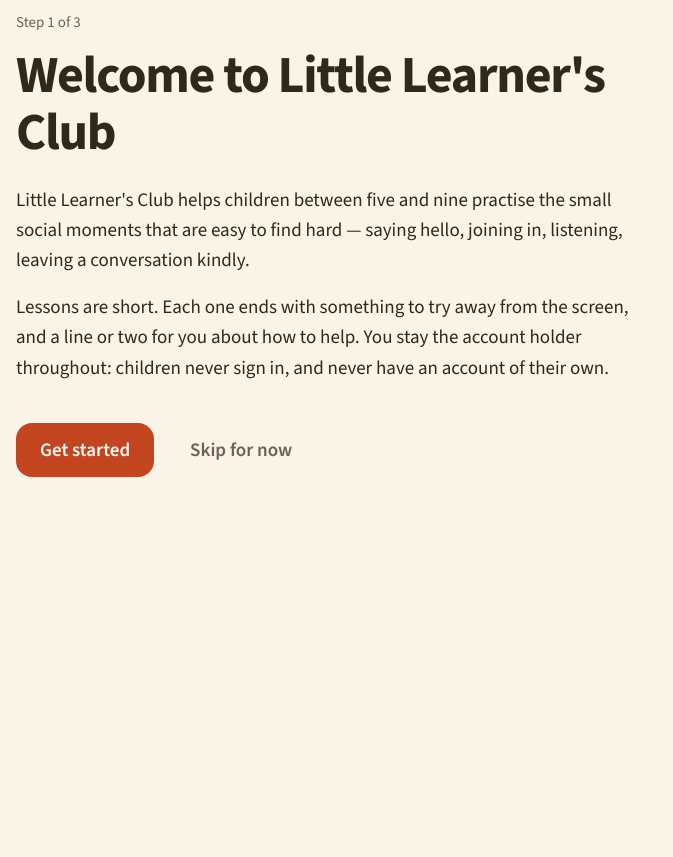
Test: the first profile › asks for a nickname rather than saving an empty one
The width and height of the screenshot is (673, 857).
Click the button "Get started" at [85, 450], box [16,423,154,477]
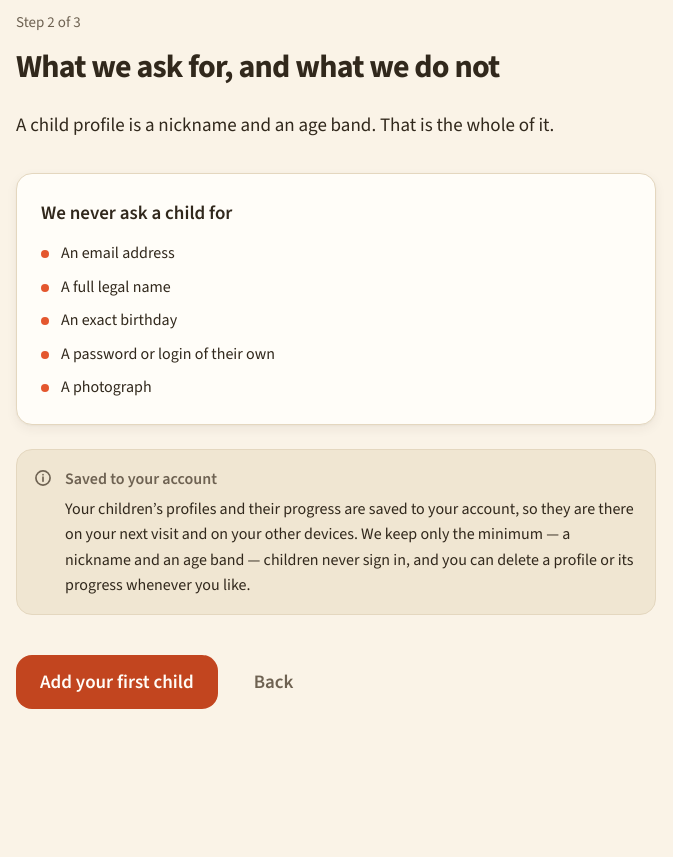
Click the button "Add your first child" at [117, 682], box [16,655,218,709]
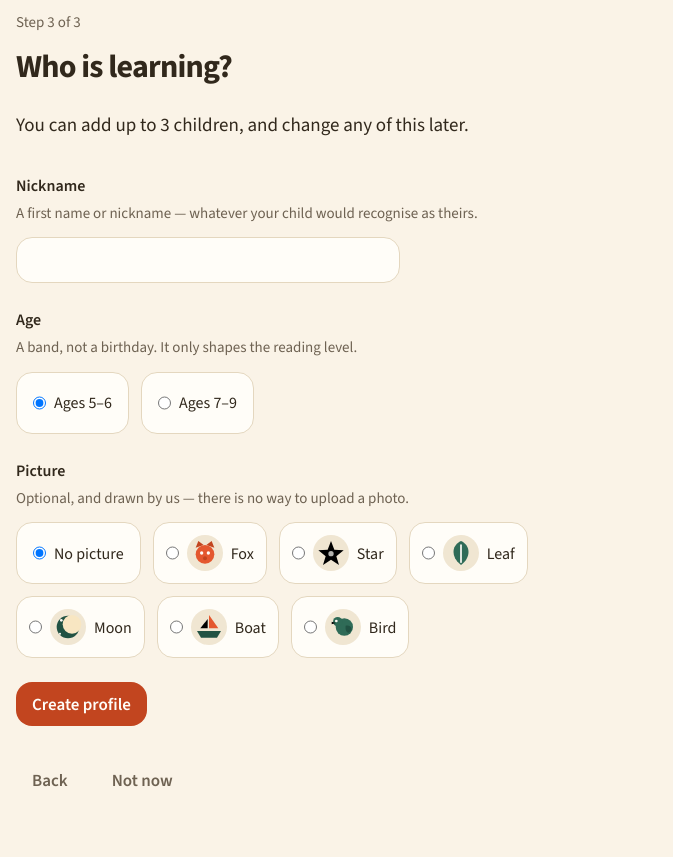
Click the button "Create profile" at [81, 704], box [16,682,147,726]
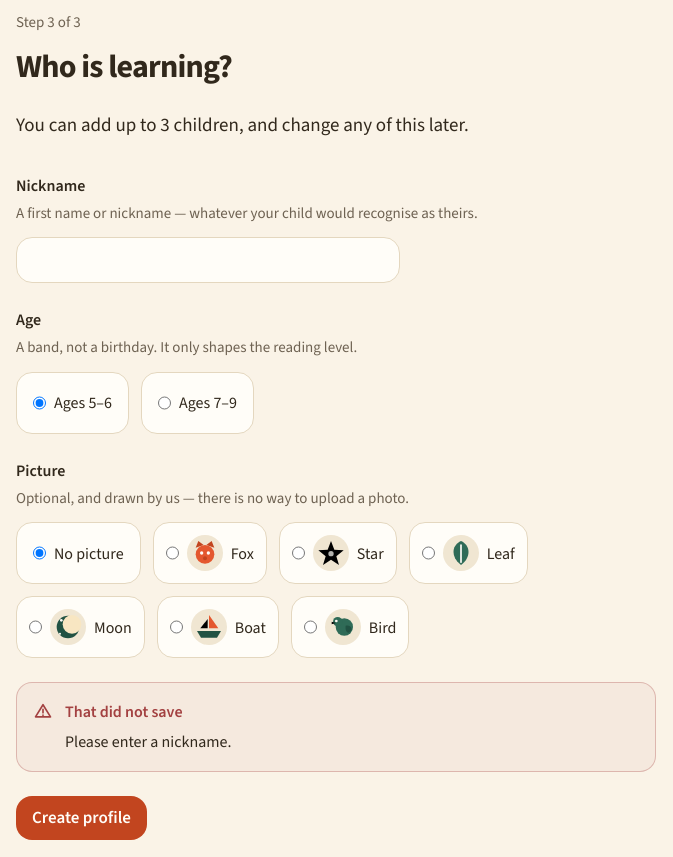
Result: the text "Please enter a nickname." is shown at [65,729,232,755]
